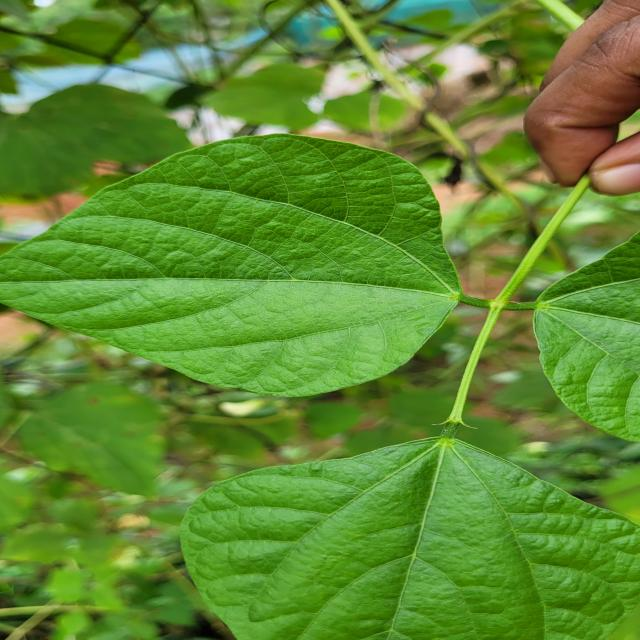Dolicos bean_healthy: (6, 130, 463, 394), (184, 433, 640, 640), (522, 213, 640, 444)
